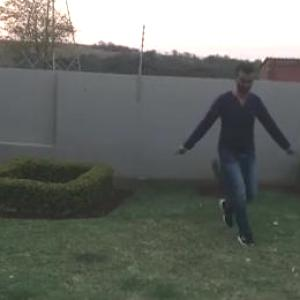land: (182, 60, 299, 231)
